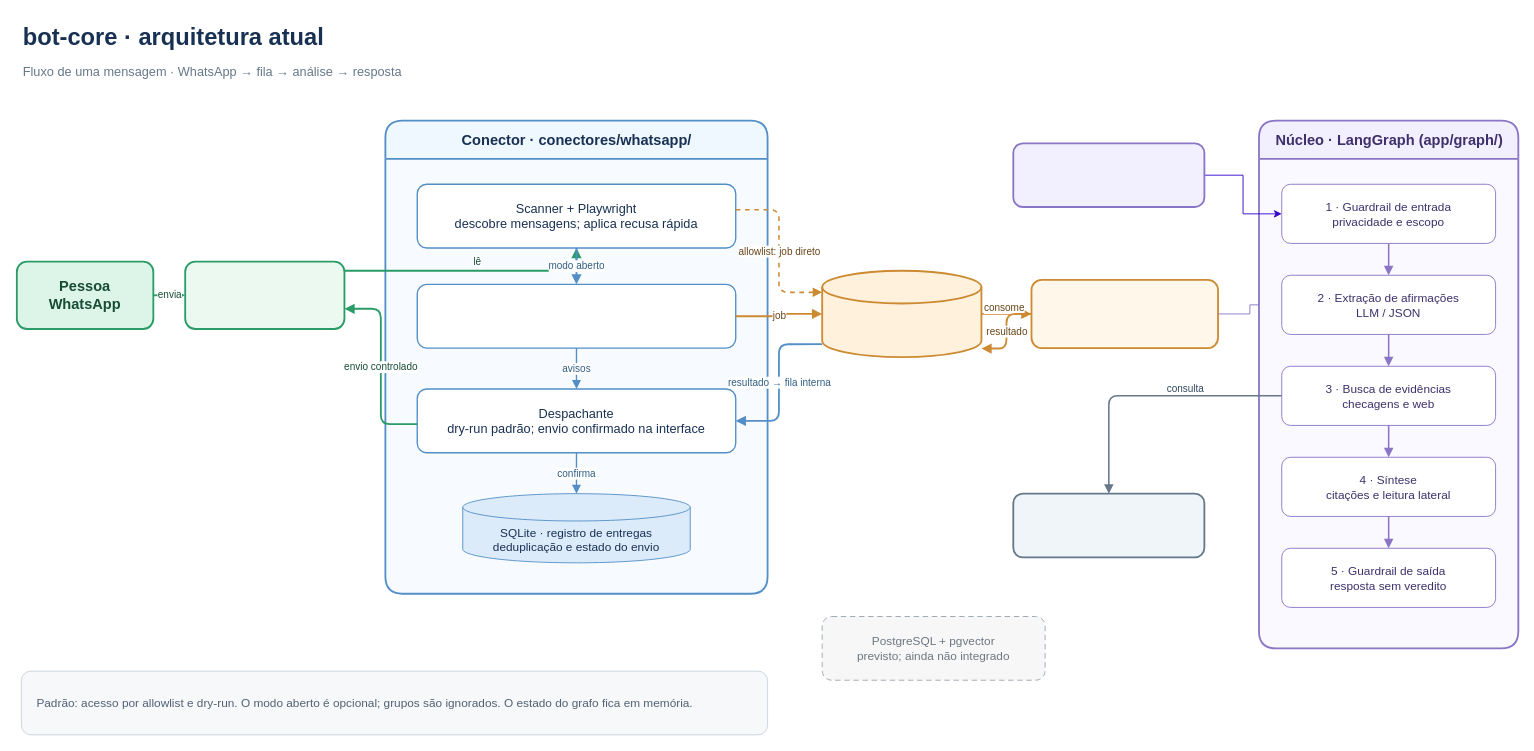
The diagram is 1534 pixels wide and 751 high, and some of its shapes have lost their labels. The centre of each missing label's shape, as x and y in pixels:
Agendador + sessões (modo aberto) limite por pessoa, fila e avisos: the point at 576,315
Fontes externas DDGS + páginas da web: the point at 1108,525
Ollama · Qwen 2.5 7B HTTP /api/chat: the point at 1108,174
Redis + ARQ fila analisar_mensagem e resultado do job: the point at 901,313
WhatsApp Web interface no Chromium: the point at 264,294
Worker ARQ · app/worker.py uma análise por vez: the point at 1124,313
